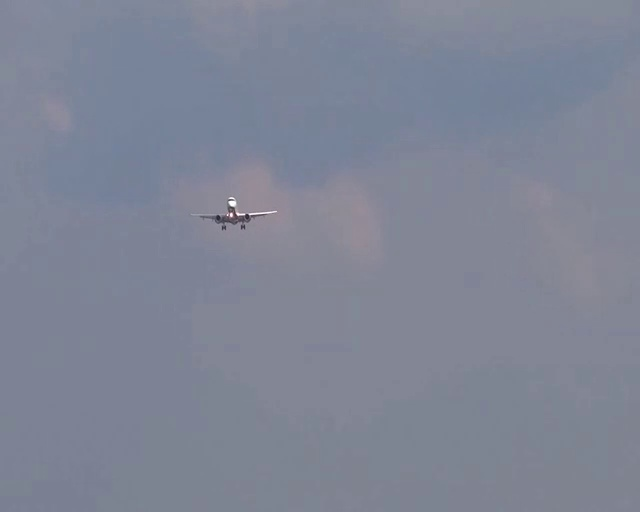AIRPLANE: (191, 197, 278, 231)
